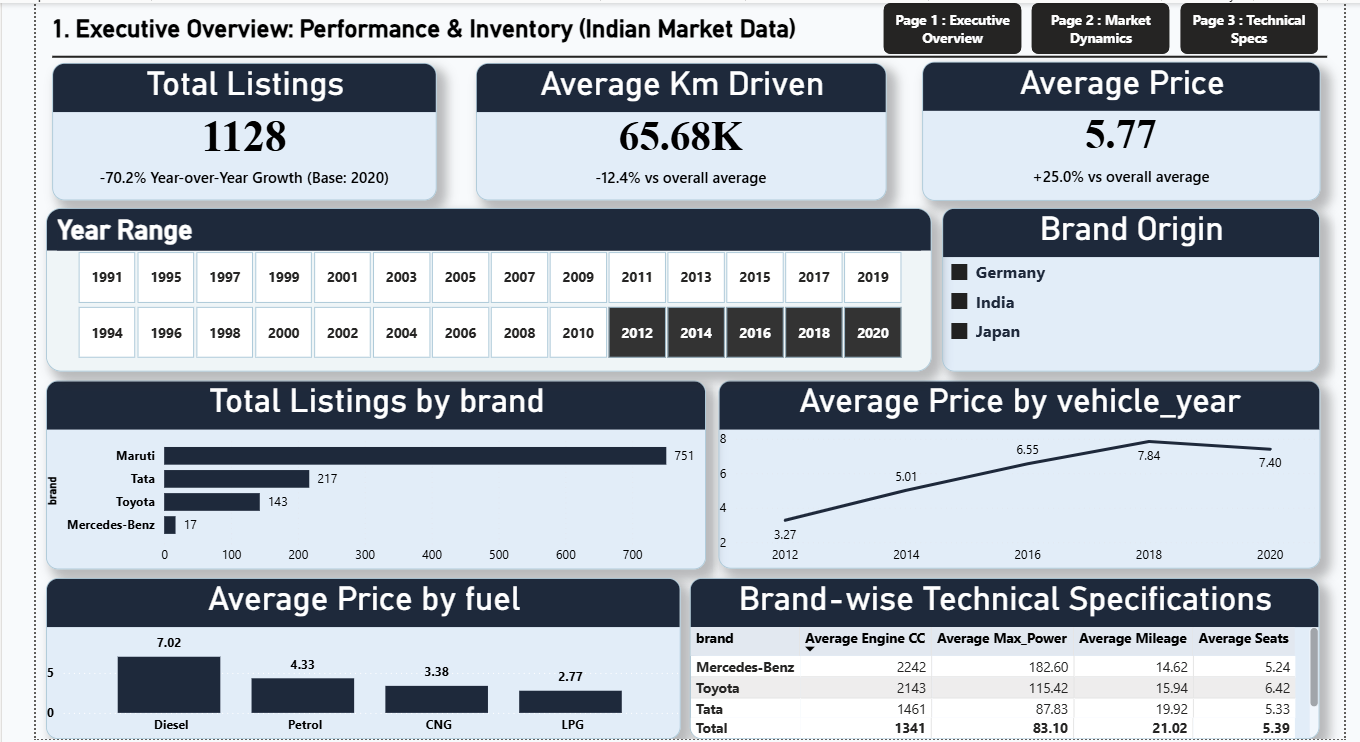

The dashboard page shown, as its layout file describes it:
{"tool":"powerbi","page":{"name":"Page 1 : Executive Overview","canvas":[1280,720],"ordinal":0},"visuals":[{"type":"shape","title":"Page 1:","box":[15.9,46.5,1247.3,12.2],"z":0},{"type":"textbox","box":[9.8,0,750.8,51.4],"z":1000},{"type":"cardVisual","title":"Total Listings","fields":{"Data":["_All Measures.Total Listings"]},"box":[16.1,59.1,376.2,134.3],"z":2000},{"type":"cardVisual","title":"Average Price","fields":{"Data":["_All Measures.Average Price"]},"box":[866.5,57.8,389.6,135.7],"z":3000},{"type":"cardVisual","title":"Average Km Driven","fields":{"Data":["_All Measures.Average Km_Driven"]},"box":[429.9,59.1,401.7,134.3],"z":4000},{"type":"clusteredBarChart","fields":{"Category":["car_analysis vw_powerbi_automotive_analytics.brand"],"Y":["_All Measures.Total Listings"]},"box":[9.8,369.3,645.7,184.6],"z":5000},{"type":"clusteredColumnChart","fields":{"Category":["car_analysis vw_powerbi_automotive_analytics.fuel"],"Y":["_All Measures.Average Price"]},"box":[9.8,562.5,621.2,157.7],"z":6000},{"type":"lineChart","fields":{"Category":["car_analysis vw_powerbi_automotive_analytics.vehicle_year"],"Y":["_All Measures.Average Price"]},"box":[667.7,369.4,588.4,184],"z":7000},{"type":"slicer","title":"Year Range","fields":{"Values":["car_analysis vw_powerbi_automotive_analytics.vehicle_year"]},"box":[9.4,200.2,866.5,159.9],"z":8000},{"type":"slicer","title":"Brand Origin","fields":{"Values":["car_analysis vw_powerbi_automotive_analytics.brand_origin"]},"box":[886.6,200.5,369.3,160.2],"z":9000},{"type":"pivotTable","title":"Brand-wise Technical Specifications","fields":{"Rows":["car_analysis vw_powerbi_automotive_analytics.brand"],"Values":["_All Measures.Average Engine CC","_All Measures.Average Max_Power","_All Measures.Average Mileage","_All Measures.Average Seats"]},"box":[639.5,562.5,616.3,157.7],"z":10000},{"type":"pageNavigator","box":[829.1,0,428,50.1],"z":13001}]}

Visuals, with their boxes on the page's 1280x720 design canvas (x1, y1, x2, y2). These are canvas units, not pixel positions in the 1360x742 screenshot, which may show the page scaled, cropped or inside an application window:
"Page 1:" shape: [x1=16, y1=46, x2=1263, y2=59]
textbox: [x1=10, y1=0, x2=761, y2=51]
"Total Listings" cardVisual: [x1=16, y1=59, x2=392, y2=193]
"Average Price" cardVisual: [x1=866, y1=58, x2=1256, y2=194]
"Average Km Driven" cardVisual: [x1=430, y1=59, x2=832, y2=193]
clusteredBarChart - car_analysis vw_powerbi_automotive_analytics.brand x _All Measures.Total Listings: [x1=10, y1=369, x2=656, y2=554]
clusteredColumnChart - car_analysis vw_powerbi_automotive_analytics.fuel x _All Measures.Average Price: [x1=10, y1=562, x2=631, y2=720]
lineChart - car_analysis vw_powerbi_automotive_analytics.vehicle_year x _All Measures.Average Price: [x1=668, y1=369, x2=1256, y2=553]
"Year Range" slicer: [x1=9, y1=200, x2=876, y2=360]
"Brand Origin" slicer: [x1=887, y1=200, x2=1256, y2=361]
"Brand-wise Technical Specifications" pivotTable: [x1=640, y1=562, x2=1256, y2=720]
pageNavigator: [x1=829, y1=0, x2=1257, y2=50]
